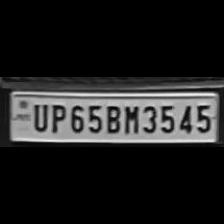3: (140, 102, 156, 134)
4: (176, 101, 192, 133)
5: (192, 100, 212, 134), (85, 102, 103, 134), (157, 102, 175, 134)
6: (67, 102, 85, 134)
B: (102, 102, 120, 134)
M: (121, 102, 139, 136)
P: (47, 102, 66, 134)
U: (29, 102, 48, 132)
